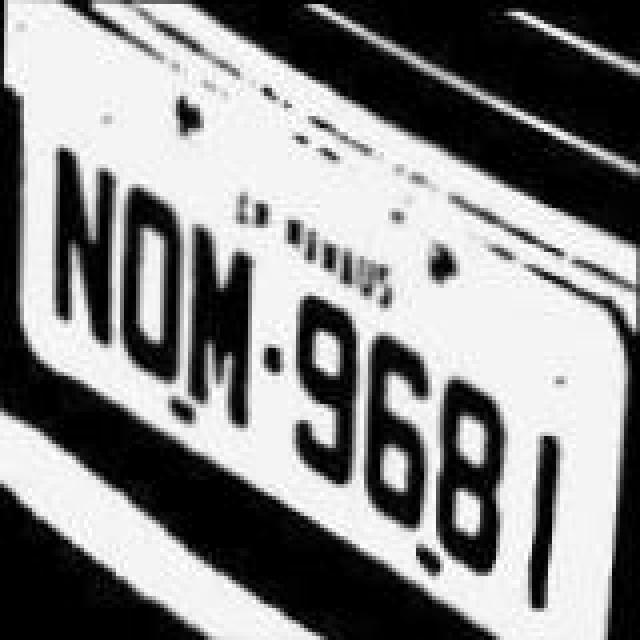1: (516, 420, 572, 624)
6: (360, 318, 440, 542)
8: (434, 356, 518, 588)
9: (288, 280, 368, 496)
M: (182, 206, 262, 434)
N: (50, 136, 126, 356)
O: (112, 174, 188, 394)
